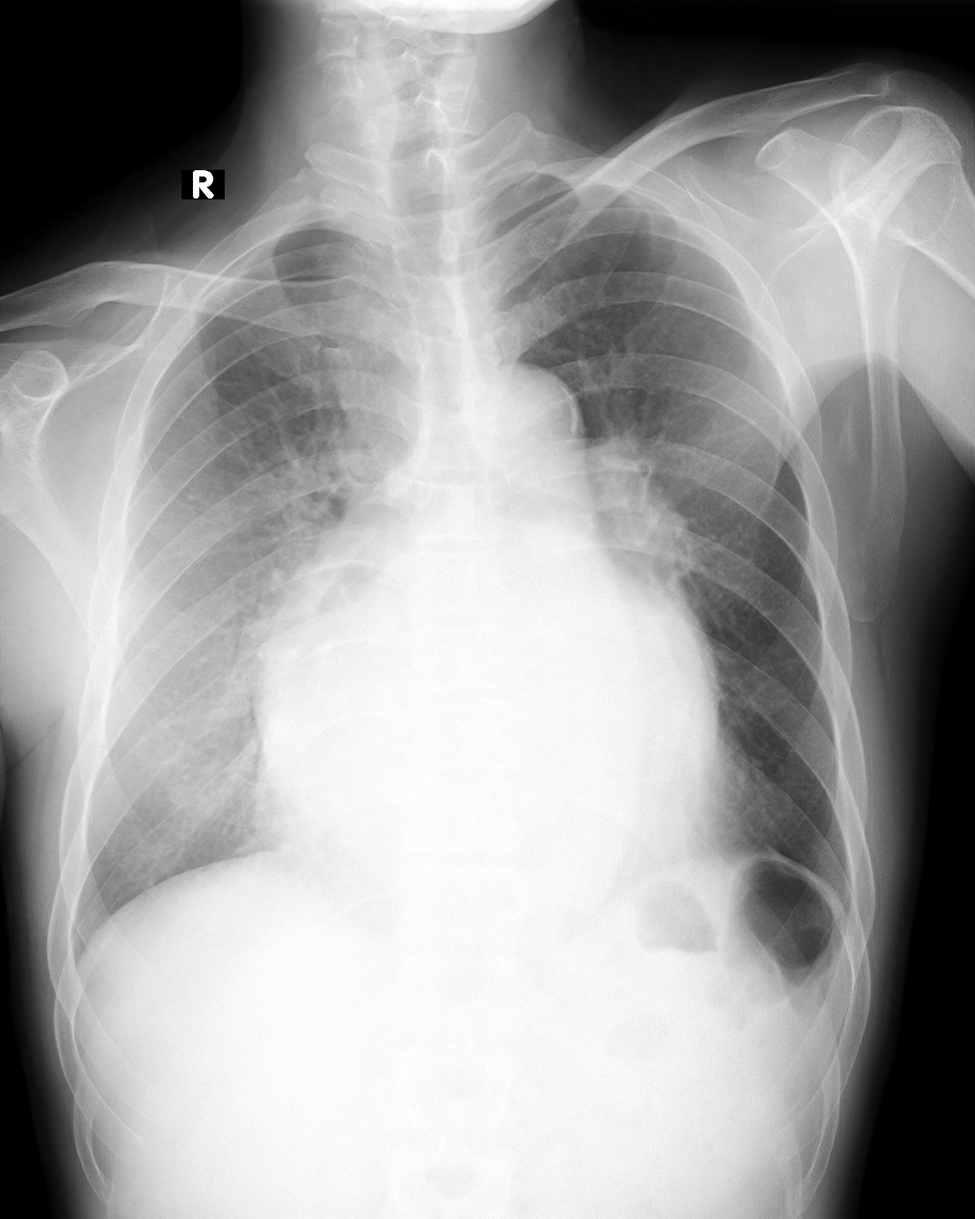Cardiomegaly: (243, 630, 723, 928)
